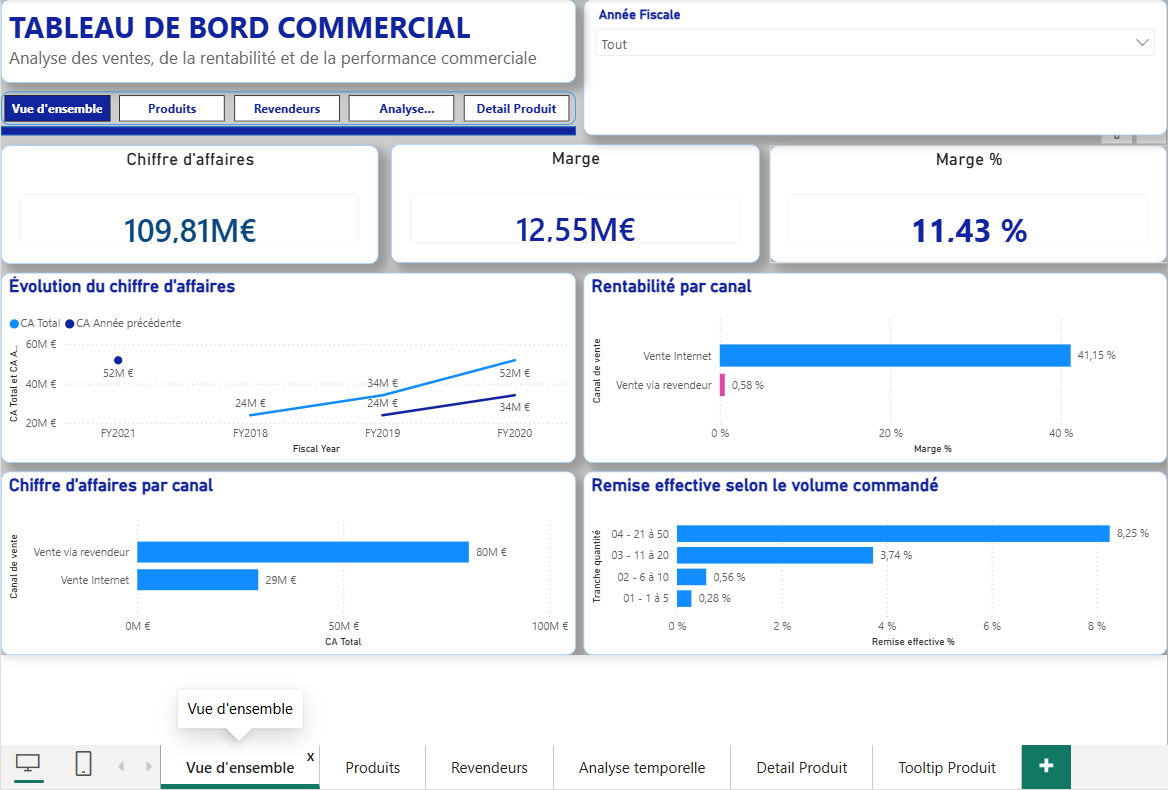

This screenshot's page, from the dashboard's own definition file:
{"tool":"powerbi","page":{"name":"Vue d'ensemble","canvas":[1280,720],"ordinal":0},"visuals":[{"type":"cardVisual","title":"Chiffre d''affaires","fields":{"Data":["Mesures.CA Total"]},"box":[0,160.5,414.4,130.4],"z":0},{"type":"cardVisual","title":"Marge","fields":{"Data":["Mesures.Marge"]},"box":[428.1,159.2,404.8,130.4],"z":1000},{"type":"cardVisual","title":"Marge %","fields":{"Data":["Mesures.Marge %"]},"box":[843.9,160.5,436.4,129],"z":2000},{"type":"lineChart","title":"Évolution du chiffre d''affaires","fields":{"Category":["Date_data.Fiscal Year"],"Y":["Mesures.CA Total","Mesures.CA Année précédente"]},"box":[0,300.5,631.2,208.6],"z":3000},{"type":"clusteredBarChart","title":"Chiffre d''affaires par canal","fields":{"Category":["Sales_data.Canal de vente"],"Y":["Mesures.CA Total"]},"box":[0,518.7,631.2,201.7],"z":4000},{"type":"clusteredBarChart","title":"Rentabilité par canal","fields":{"Category":["Sales_data.Canal de vente"],"Y":["Mesures.Marge %"]},"box":[639.5,300.5,640.8,208.6],"z":5000},{"type":"slicer","title":"Année Fiscal","fields":{"Values":["Date_data.Fiscal Year"]},"box":[639.5,0,640.8,149.6],"z":6000},{"type":"clusteredBarChart","title":"Remise effective selon le volume commandé","fields":{"Category":["Sales_data.Tranche quantité"],"Y":["Mesures.Remise effective %"]},"box":[639.5,518.7,640.8,201.7],"z":7000},{"type":"textbox","box":[0,0,631.2,91.9],"z":8000},{"type":"shape","box":[0,140,631.2,9.6],"z":9000},{"type":"pageNavigator","box":[0,101.5,631.2,37],"z":9001}]}

Visuals, with their boxes on the page's 1280x720 design canvas (x1, y1, x2, y2). These are canvas units, not pixel positions in the 1168x790 screenshot, which may show the page scaled, cropped or inside an application window:
"Chiffre d''affaires" cardVisual: [0, 160, 414, 291]
"Marge" cardVisual: [428, 159, 833, 290]
"Marge %" cardVisual: [844, 160, 1280, 290]
"Évolution du chiffre d''affaires" lineChart: [0, 300, 631, 509]
"Chiffre d''affaires par canal" clusteredBarChart: [0, 519, 631, 720]
"Rentabilité par canal" clusteredBarChart: [640, 300, 1280, 509]
"Année Fiscal" slicer: [640, 0, 1280, 150]
"Remise effective selon le volume commandé" clusteredBarChart: [640, 519, 1280, 720]
textbox: [0, 0, 631, 92]
shape: [0, 140, 631, 150]
pageNavigator: [0, 102, 631, 138]
